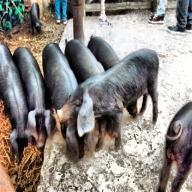boar: (0, 34, 159, 164), (157, 100, 191, 192), (30, 2, 45, 36)
